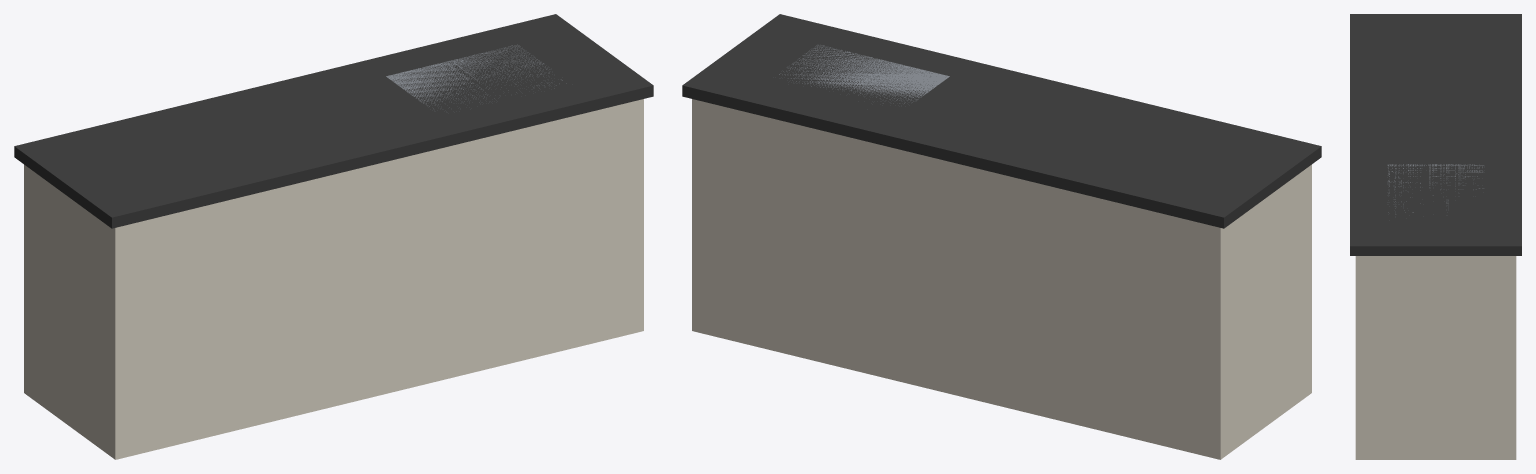
File: kitchen-counter.gltf
3 views of the same model, side by side, from view 1: azimuth 30°, elevation 25°; view 2: azimuth 150°, elevation 25°; view 3: azimuth 270°, elevation 25° (orthographic). The views are drawn at different scales.
Bounding box in the file's own units: 2.05 × 0.89 × 0.64.
